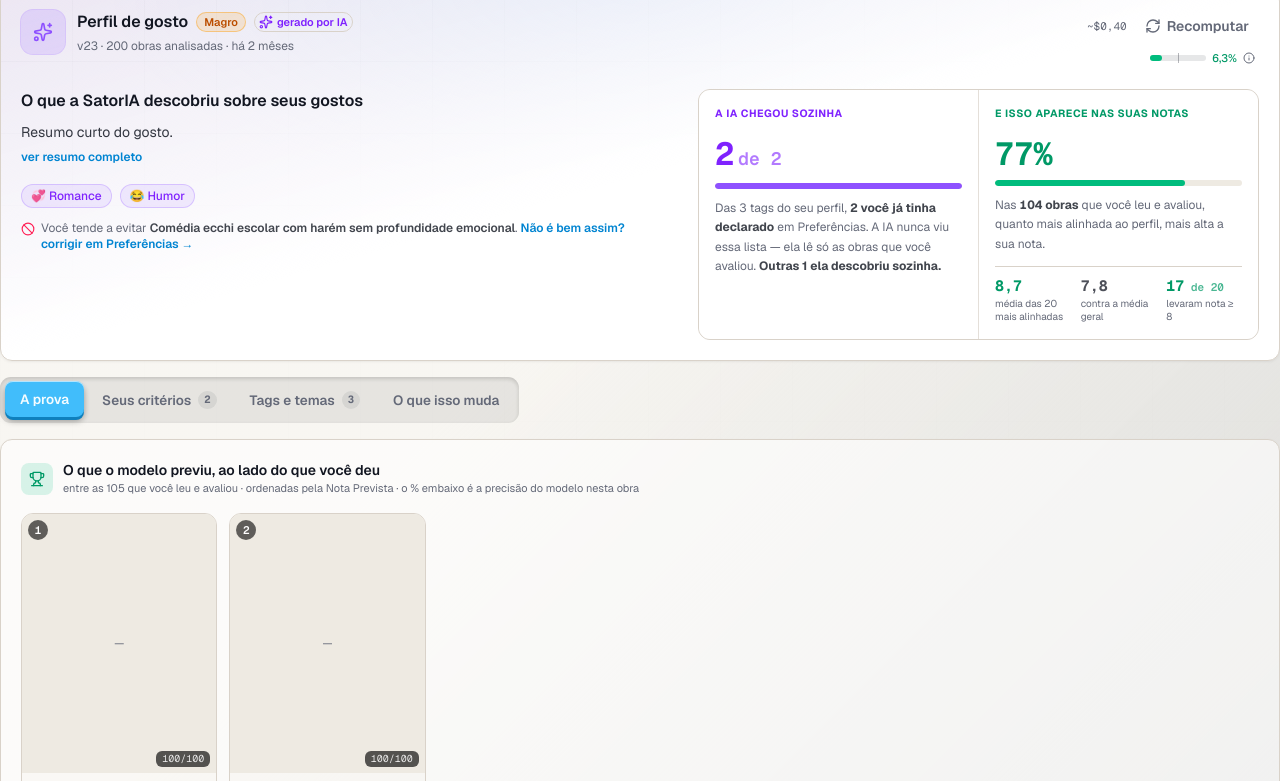
Test: aba O que isso muda › 🔴 o card da fila mostra ESTADO, afinidade e chance — cada um rotulado
Click the tab "O que isso muda" at [446, 400], box 378,382 -> 514,418
(page scrolled)
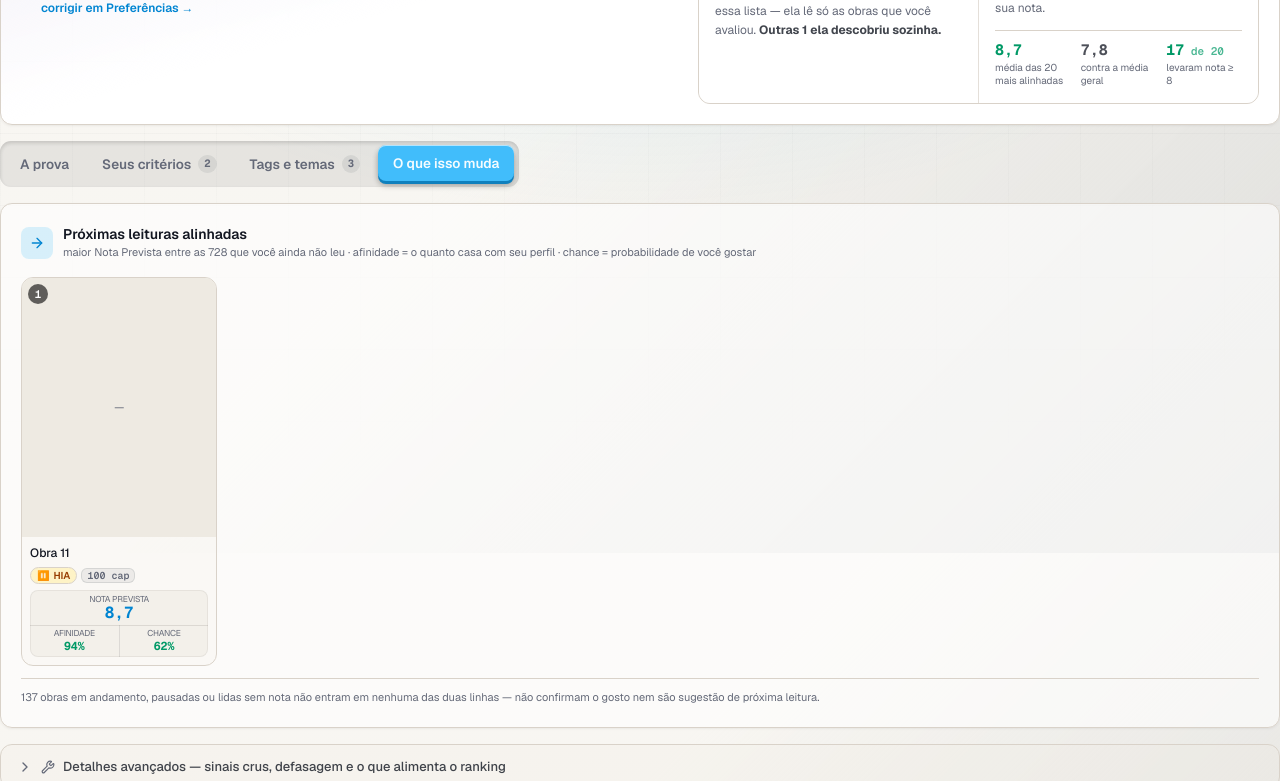
Result: the text "afinidade" is shown at 54,627 -> 95,639
Result: the text "94%" is shown at 64,638 -> 85,653
Result: the text "chance" is shown at 147,627 -> 181,639
